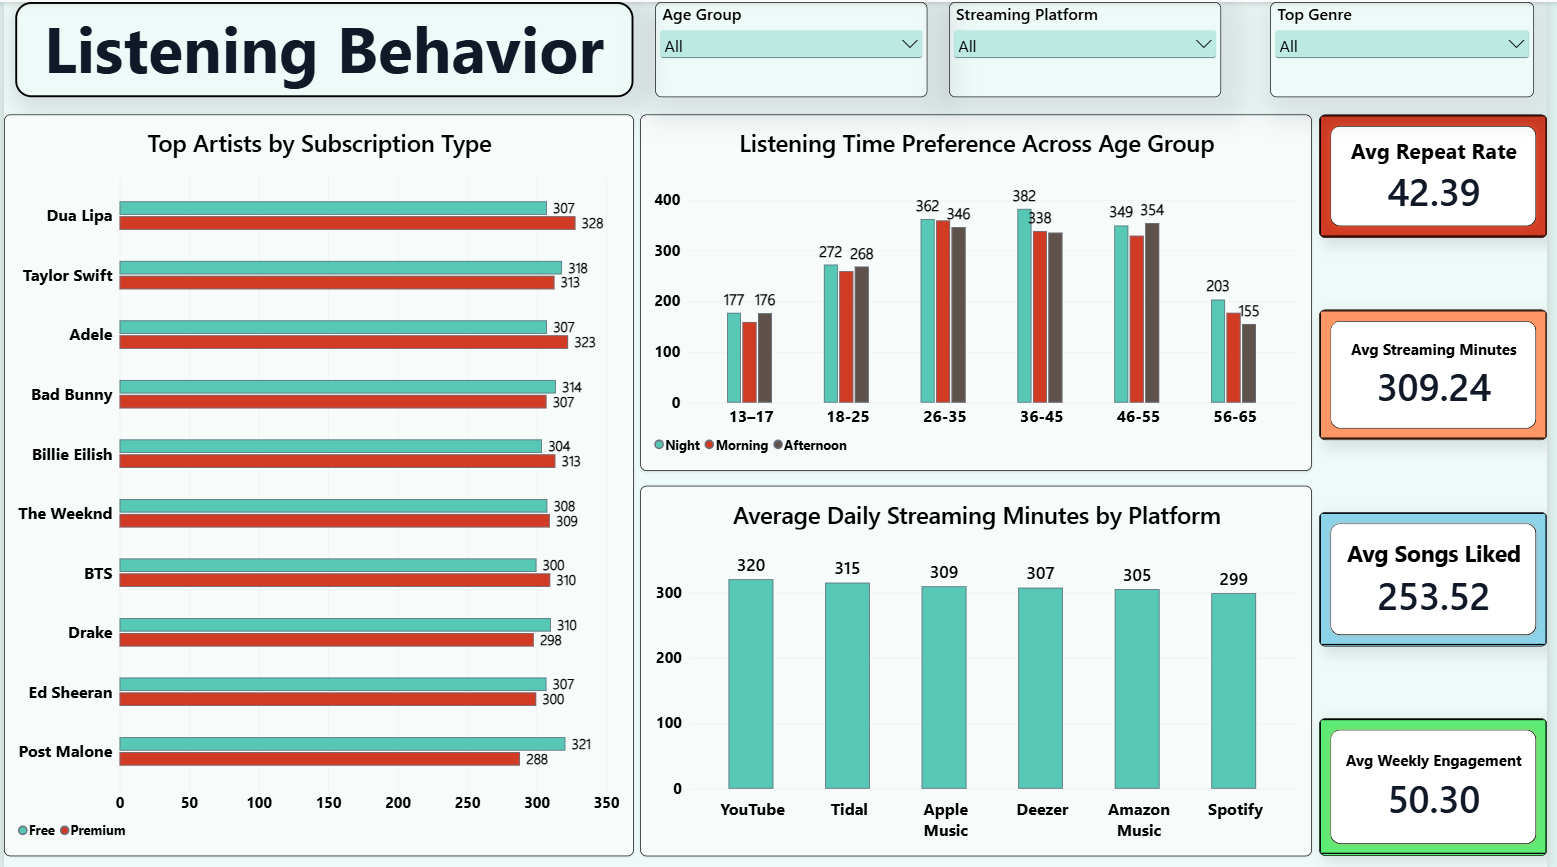

This screenshot's page, from the dashboard's own definition file:
{"tool":"powerbi","page":{"name":"Listening","canvas":[1920,1080],"ordinal":2},"visuals":[{"type":"textbox","box":[14,0,769.2,118.6],"z":0},{"type":"clusteredBarChart","title":" Top Artists by Subscription Type","fields":{"Y":["Table.Avg Streaming Minutes"],"Series":["cleaned_music_data (1).Subscription Type"],"Category":["cleaned_music_data (1).Most Played Artist"]},"box":[0,139.5,783.1,922.7],"z":1000},{"type":"clusteredColumnChart","title":" Listening Time Preference Across Age Group","fields":{"Y":["Table.Total Users"],"Category":["cleaned_music_data (1).Age Group"],"Series":["cleaned_music_data (1).Listening Time (Morning/Afternoon/Night)"]},"box":[791.9,139.5,835.5,443],"z":2000},{"type":"columnChart","title":" Average Daily Streaming Minutes by Platform","fields":{"Y":["Table.Avg Streaming Minutes"],"Category":["cleaned_music_data (1).Streaming Platform"]},"box":[791.9,601.7,835.5,460.5],"z":3000},{"type":"cardVisual","fields":{"Data":["Table.Avg Streaming Minutes"]},"box":[1635.7,382.6,284.3,162.2],"z":3001},{"type":"cardVisual","fields":{"Data":["Table.Avg Songs Liked"]},"box":[1635.7,634.3,284.3,167.4],"z":3002},{"type":"cardVisual","fields":{"Data":["Table.Avg Weekly Engagement"]},"box":[1635.7,891.3,284.3,170.9],"z":3003},{"type":"cardVisual","fields":{"Data":["Table.Avg Repeat Rate"]},"box":[1635.7,139.5,284.3,153.5],"z":3005},{"type":"slicer","fields":{"Values":["cleaned_music_data (1).Age Group"]},"box":[809.3,0,338.4,118.6],"z":3006},{"type":"slicer","fields":{"Values":["cleaned_music_data (1).Streaming Platform"]},"box":[1175.6,0,338.4,118.6],"z":3007},{"type":"slicer","fields":{"Values":["cleaned_music_data (1).Top Genre"]},"box":[1575,0,327.9,118.6],"z":3008}]}

Visuals, with their boxes in screenshot pixels (x1, y1, x2, y2), scaled from the page's 1920x1080 canvas onto the 1557x867 screenshot:
textbox: 11/0/635/95
" Top Artists by Subscription Type" clusteredBarChart: 0/112/635/853
" Listening Time Preference Across Age Group" clusteredColumnChart: 642/112/1320/468
" Average Daily Streaming Minutes by Platform" columnChart: 642/483/1320/853
cardVisual - Table.Avg Streaming Minutes: 1326/307/1556/437
cardVisual - Table.Avg Songs Liked: 1326/509/1556/644
cardVisual - Table.Avg Weekly Engagement: 1326/716/1556/853
cardVisual - Table.Avg Repeat Rate: 1326/112/1556/235
slicer - cleaned_music_data (1).Age Group: 656/0/931/95
slicer - cleaned_music_data (1).Streaming Platform: 953/0/1228/95
slicer - cleaned_music_data (1).Top Genre: 1277/0/1543/95
